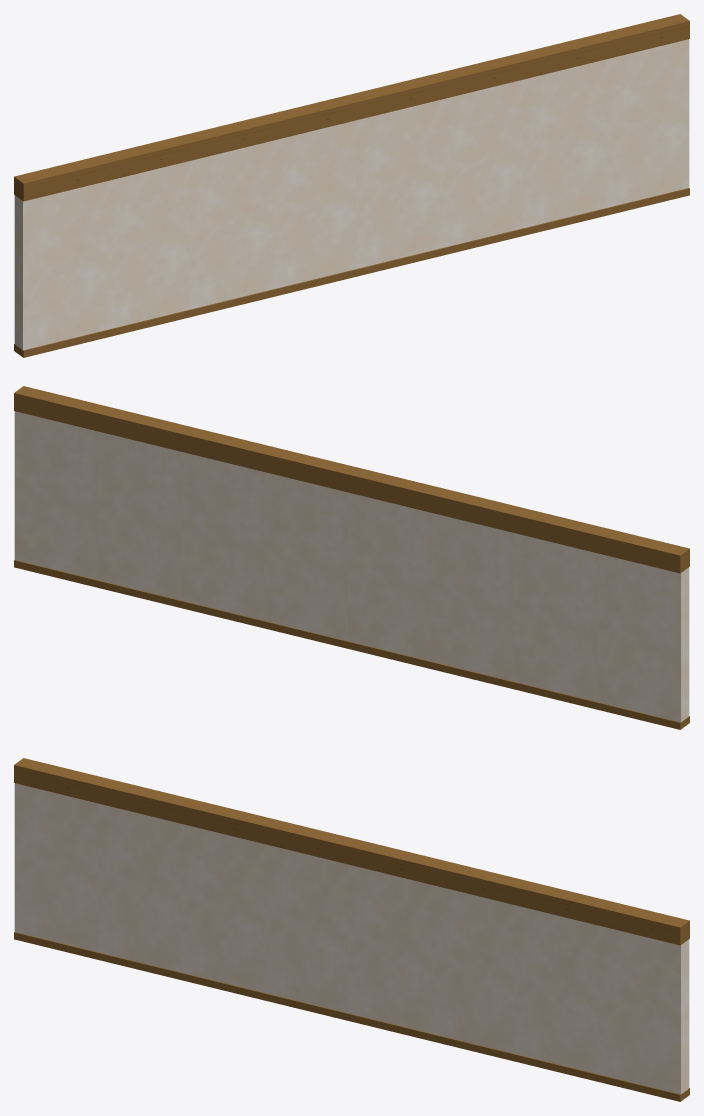
Rendered from wall_8.fbx.
3 renders of one model, top to bottom at view 1: azimuth 30°, elevation 25°; view 2: azimuth 150°, elevation 25°; view 3: azimuth 330°, elevation 25°, orthographic.
Visible parts, largest first — view 1: wall08; view 2: wall08; view 3: wall08.
Part boxes in pixels (x1,y1,x2,y2): wall08: (14,14,689,357); wall08: (14,386,689,729); wall08: (14,758,689,1101).
Bounding box in the file's own units: 800 × 200 × 20.
